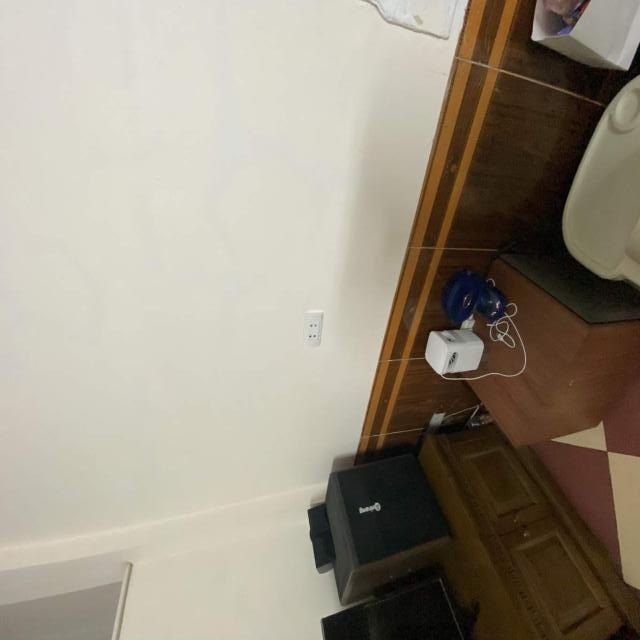outlet: (303, 312, 324, 347)
